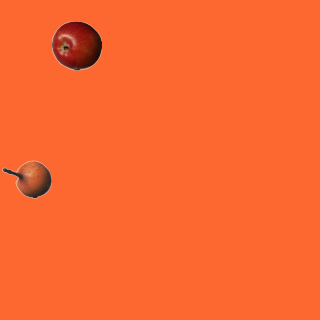Apple Braeburn: (51, 20, 101, 70)
Granadilla: (1, 154, 51, 204)
